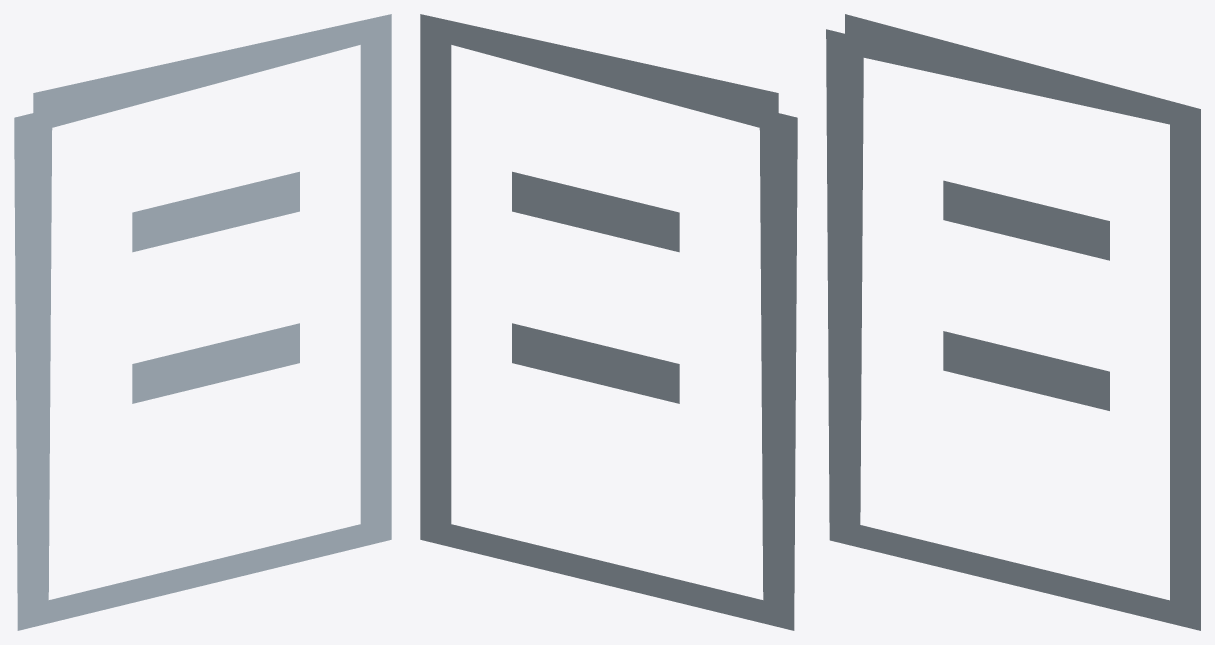
Rendered from Yanfei_ChargedAttack_0Seals_LegalGlyph0.fbx.
3 views of the same model, side by side, from view 1: azimuth 30°, elevation 25°; view 2: azimuth 150°, elevation 25°; view 3: azimuth 330°, elevation 25° (orthographic).
Parts seen in each view (by area): view 1: PART_AuthoredLegalGlyph_0_0, PART_AuthoredLegalGlyph_0_1, PART_AuthoredLegalGlyph_0_2; view 2: PART_AuthoredLegalGlyph_0_0, PART_AuthoredLegalGlyph_0_1, PART_AuthoredLegalGlyph_0_2; view 3: PART_AuthoredLegalGlyph_0_0, PART_AuthoredLegalGlyph_0_2, PART_AuthoredLegalGlyph_0_1.
Part boxes in pixels (x1,y1,x2,y2): PART_AuthoredLegalGlyph_0_0: (14, 14, 391, 630); PART_AuthoredLegalGlyph_0_1: (132, 171, 299, 252); PART_AuthoredLegalGlyph_0_2: (132, 323, 299, 403); PART_AuthoredLegalGlyph_0_0: (420, 14, 797, 630); PART_AuthoredLegalGlyph_0_1: (512, 171, 679, 252); PART_AuthoredLegalGlyph_0_2: (512, 323, 679, 403); PART_AuthoredLegalGlyph_0_0: (826, 14, 1200, 630); PART_AuthoredLegalGlyph_0_2: (943, 331, 1109, 410); PART_AuthoredLegalGlyph_0_1: (943, 180, 1109, 260).
Size of the model in its own units: 49.53 by 66.95 by 1.09e-05.
